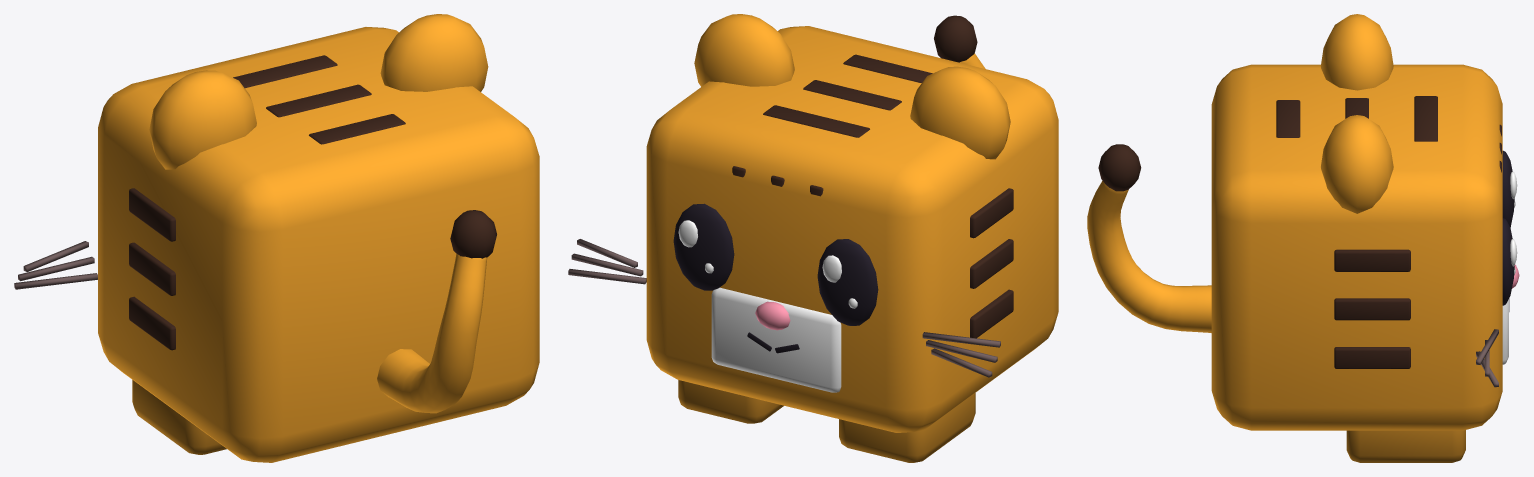
The model's file is pet_tiger.fbx.
3 renders of one model, left to right at view 1: azimuth 30°, elevation 25°; view 2: azimuth 150°, elevation 25°; view 3: azimuth 270°, elevation 25°, orthographic. The views are drawn at different scales.
Visible parts, largest first — view 1: pet_tiger; view 2: pet_tiger; view 3: pet_tiger.
Boxes of the visible parts, left/top/right/bottom form: pet_tiger: left=14, top=14, right=539, bottom=462; pet_tiger: left=568, top=14, right=1058, bottom=462; pet_tiger: left=1087, top=14, right=1519, bottom=462.
Bounding box in the file's own units: 3.06 × 2.46 × 2.82.
1 material, 1 textured.
